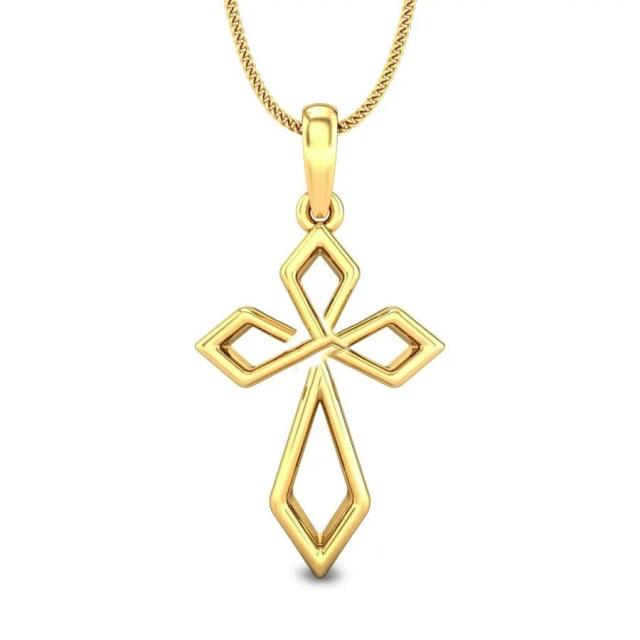missing gem: (297, 319, 338, 365)
